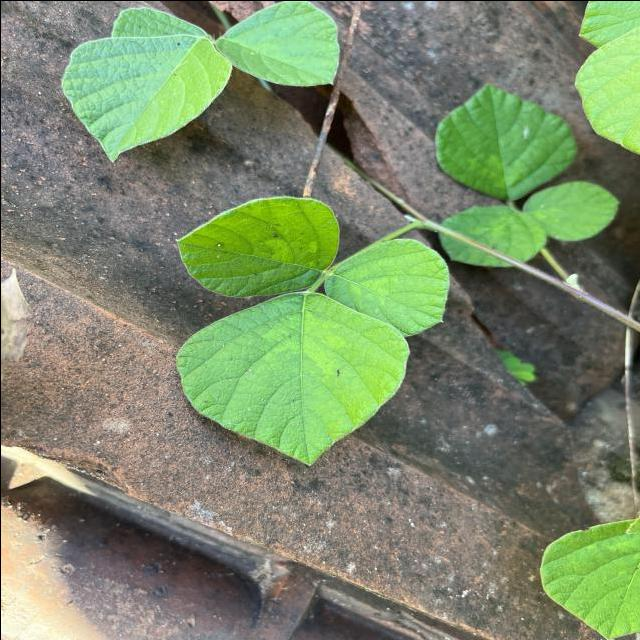Pseudarthria viscida: (166, 189, 454, 468), (432, 82, 620, 268)
